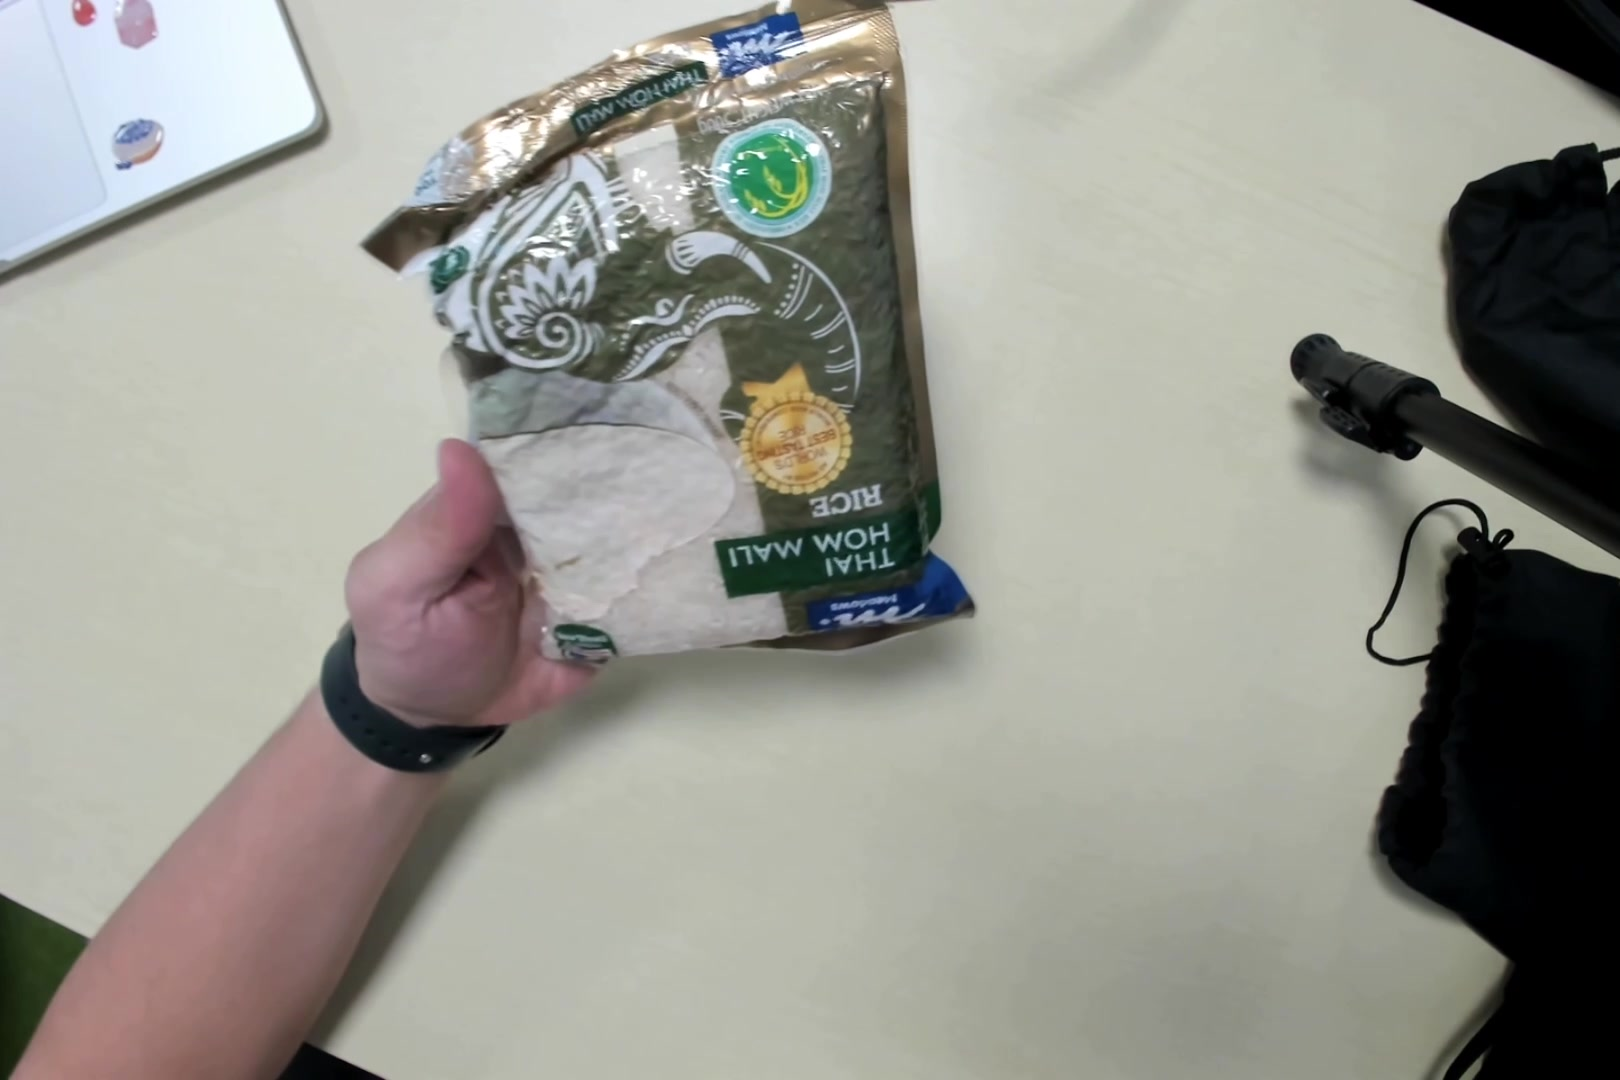Rice(White)_500-599g_NonHalal_NonHealthy: (398, 8, 974, 673)
